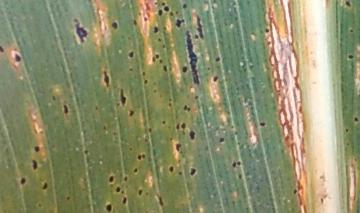tarspot: (186, 30, 200, 86), (73, 18, 88, 43), (196, 14, 204, 39), (101, 71, 111, 88), (120, 87, 126, 107), (189, 129, 196, 141), (175, 18, 184, 27), (189, 167, 198, 176), (144, 1, 151, 12), (157, 195, 164, 206), (32, 159, 38, 171), (62, 104, 69, 114), (183, 104, 191, 112), (41, 182, 49, 190), (111, 21, 118, 30), (175, 143, 182, 152), (181, 65, 188, 74), (106, 204, 113, 213), (19, 177, 26, 185), (15, 53, 21, 62), (128, 50, 134, 59), (108, 174, 114, 183), (33, 146, 40, 153), (126, 34, 133, 41), (168, 165, 174, 173), (153, 26, 159, 34), (215, 55, 221, 63), (319, 197, 325, 205), (121, 197, 127, 205), (115, 185, 121, 193), (163, 64, 168, 73), (83, 148, 89, 155), (182, 3, 188, 10), (164, 5, 170, 12), (213, 75, 219, 82), (231, 161, 237, 168), (292, 188, 298, 195), (129, 109, 134, 117), (133, 19, 138, 27), (176, 123, 181, 131), (138, 188, 143, 196), (37, 201, 42, 209), (1, 44, 5, 53), (51, 95, 57, 101), (264, 28, 270, 34), (219, 137, 225, 143), (124, 173, 128, 182), (102, 124, 107, 131), (181, 122, 186, 129), (158, 9, 163, 16), (194, 33, 199, 40), (259, 121, 266, 126), (354, 116, 359, 123), (38, 129, 44, 134), (128, 67, 134, 72), (141, 71, 146, 77), (133, 167, 138, 173), (144, 137, 149, 143), (152, 57, 157, 63), (155, 53, 160, 59), (194, 94, 199, 100), (143, 16, 148, 22), (170, 11, 175, 17), (348, 54, 354, 59), (349, 28, 354, 34), (346, 1, 351, 7), (344, 128, 350, 133), (66, 195, 71, 201), (138, 154, 142, 161), (238, 173, 242, 180), (116, 102, 121, 107), (143, 79, 148, 84), (113, 131, 118, 136), (154, 1, 159, 6), (206, 66, 211, 71), (230, 125, 235, 130), (236, 141, 241, 146), (346, 142, 351, 147), (95, 105, 99, 111), (142, 153, 146, 159), (159, 58, 163, 64), (168, 102, 172, 108), (169, 136, 173, 142), (138, 11, 142, 17), (175, 10, 179, 16), (163, 25, 167, 31), (237, 160, 241, 166), (145, 190, 149, 196), (149, 126, 152, 133), (128, 147, 133, 151), (162, 120, 166, 125), (168, 98, 173, 102), (162, 1, 166, 6), (158, 37, 162, 42), (178, 171, 183, 175), (354, 157, 358, 162), (153, 89, 157, 93), (235, 131, 239, 135), (163, 44, 166, 49), (121, 191, 125, 194)
